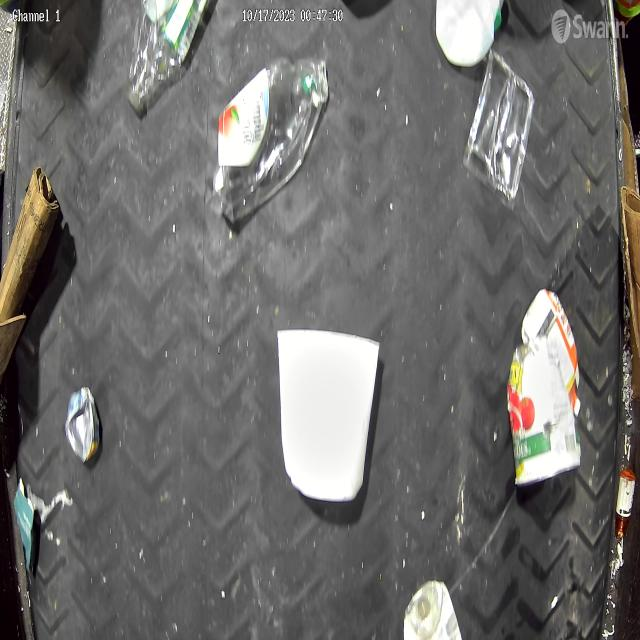can: (402, 577, 463, 640), (64, 386, 101, 464)
milk_jug: (219, 57, 329, 222), (435, 0, 495, 66)
plastic_bottle: (127, 0, 210, 112)
